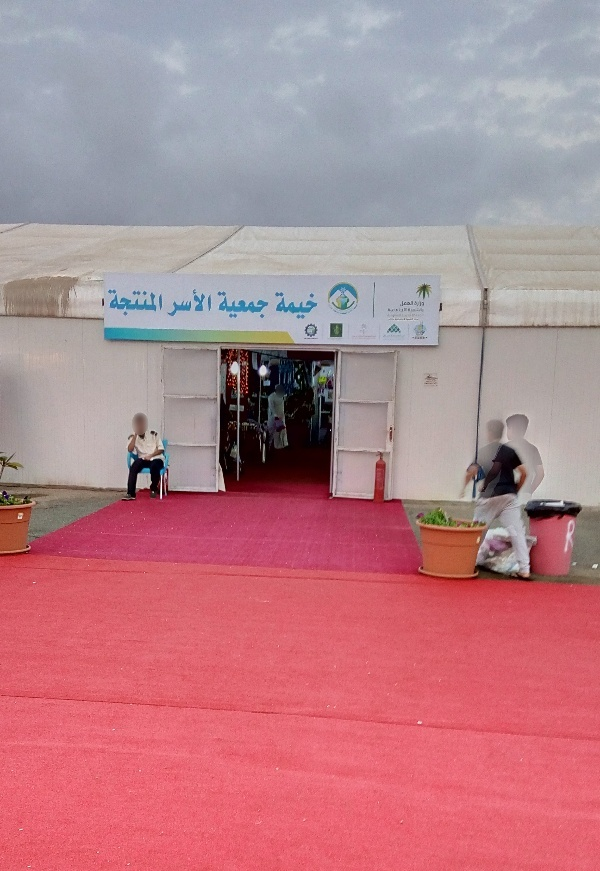text: (177, 288, 192, 319), (193, 288, 208, 319), (564, 518, 576, 554), (113, 288, 128, 316), (129, 288, 144, 316), (145, 288, 160, 316), (225, 291, 240, 319), (241, 291, 256, 319), (289, 291, 304, 319), (305, 291, 320, 319), (275, 291, 288, 319), (257, 291, 269, 319), (169, 288, 176, 319), (217, 291, 224, 319), (417, 320, 427, 336), (209, 288, 213, 319), (108, 288, 112, 316), (161, 288, 164, 316), (401, 301, 414, 307), (385, 333, 400, 338), (402, 313, 416, 318), (388, 308, 400, 313), (417, 300, 425, 307), (387, 314, 400, 318), (413, 320, 416, 336), (401, 318, 416, 321), (353, 335, 368, 338), (408, 308, 416, 313), (388, 318, 400, 321), (577, 518, 578, 554), (417, 308, 424, 313), (424, 380, 432, 384), (401, 308, 407, 313), (311, 337, 320, 340), (307, 338, 320, 340), (369, 335, 377, 338), (417, 314, 424, 317), (401, 333, 405, 338), (433, 380, 438, 384), (412, 314, 416, 317), (417, 318, 420, 321), (415, 300, 416, 307), (383, 333, 384, 338), (401, 314, 402, 318), (305, 338, 307, 340)
